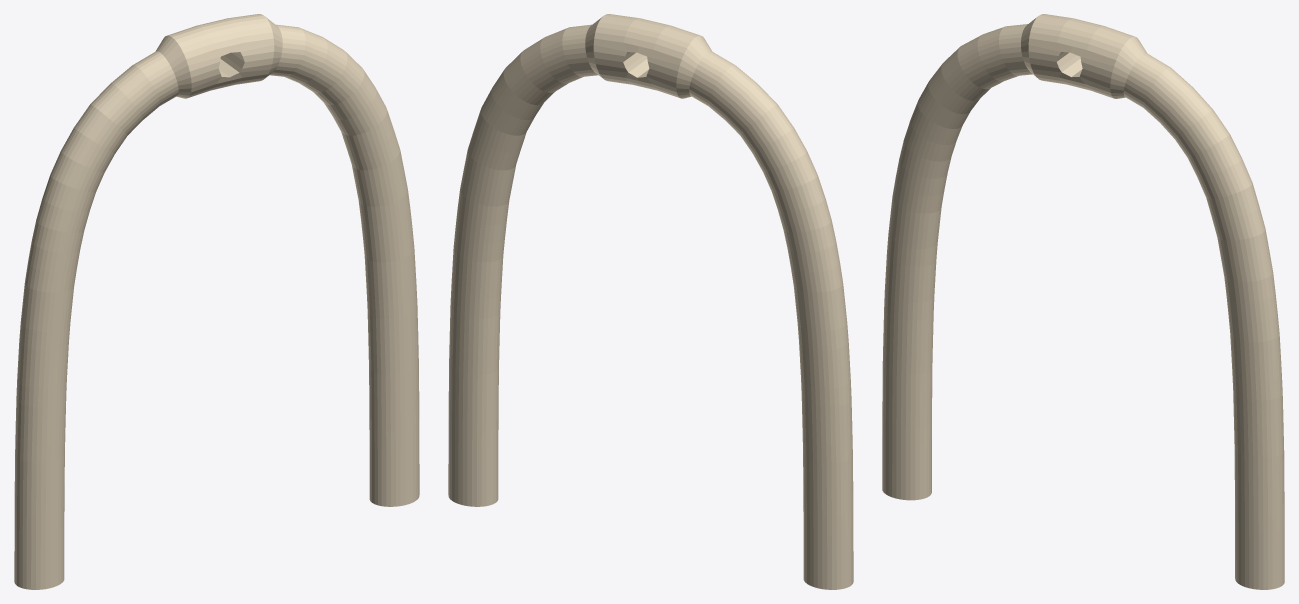
Rendered from Monument_Gate.fbx.
3 renders of one model, left to right at view 1: azimuth 30°, elevation 25°; view 2: azimuth 150°, elevation 25°; view 3: azimuth 330°, elevation 25°, orthographic.
Visible parts, largest first — view 1: Monument_Gate; view 2: Monument_Gate; view 3: Monument_Gate.
Boxes of the visible parts, x1,y1,x2,y2 form: Monument_Gate: (14, 14, 419, 589); Monument_Gate: (448, 14, 853, 589); Monument_Gate: (882, 14, 1284, 589).
Bounding box in the file's own units: 38.7 × 312 × 385.
